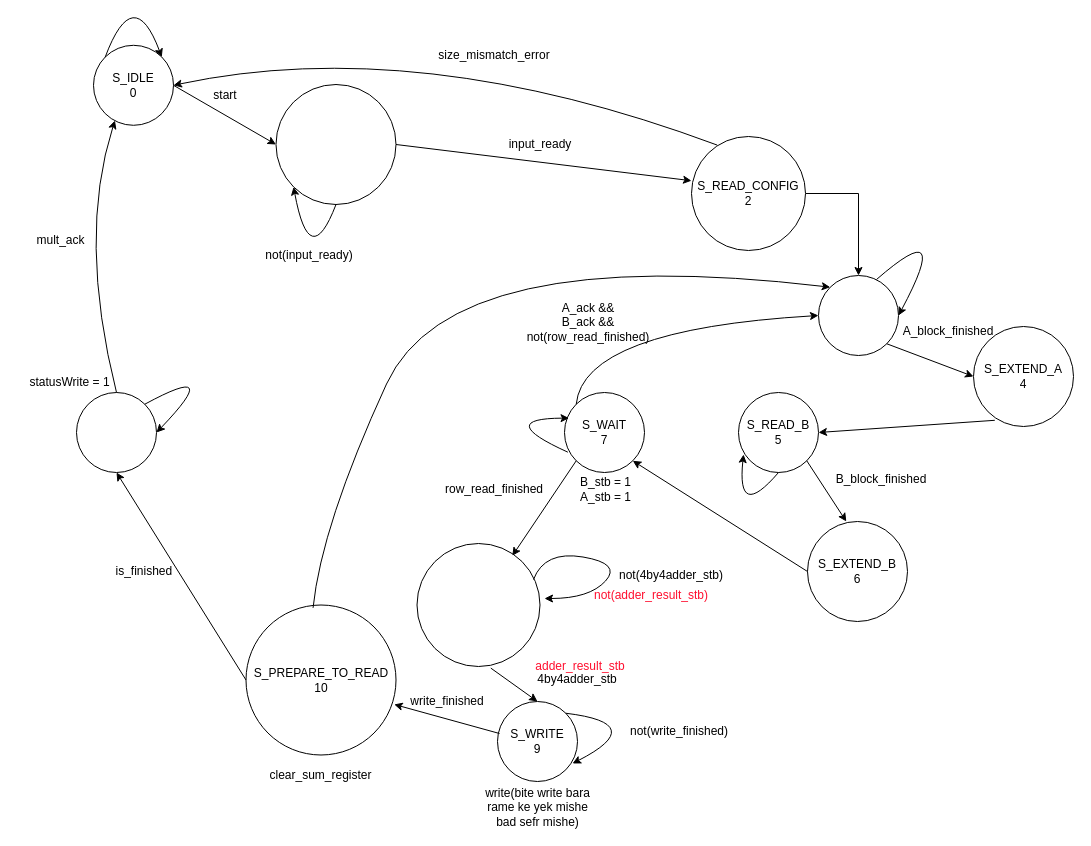
The diagram is 1091 pixels wide and 846 high, and some of its shapes have lost their labels. The shapes that lost their labels are listed below. From the top down, each one's centre as x and y in pixels, then its label:
(335,144): S_READ_STATUS 1
(858,315): S_READ_A 3
(116,432): S_FINISH 11
(478,604): S_WAIT_FOR_WRITE 8
